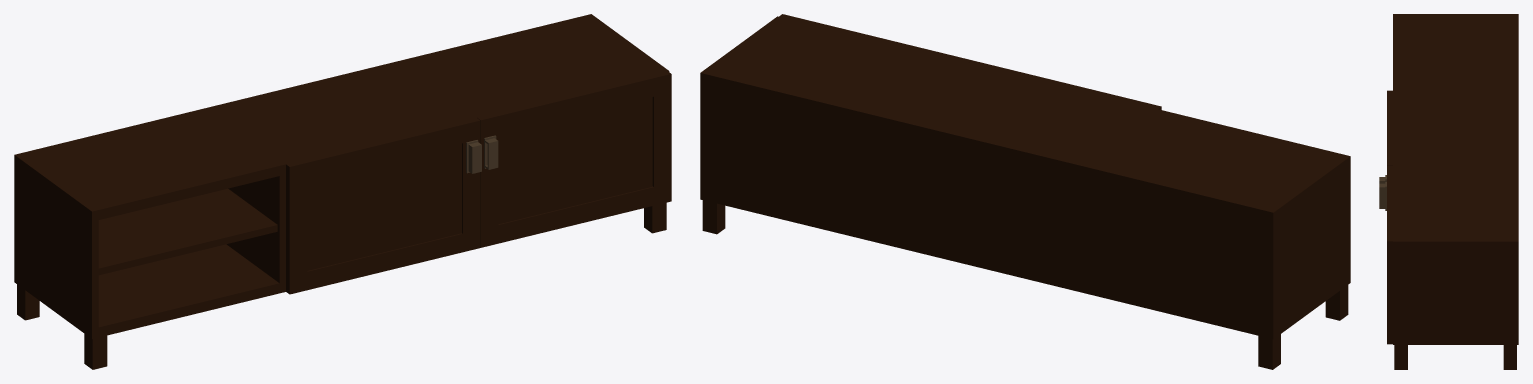
The model's file is TV cabinet.fbx.
3 renders of one model, left to right at view 1: azimuth 30°, elevation 25°; view 2: azimuth 150°, elevation 25°; view 3: azimuth 270°, elevation 25°, orthographic. The views are drawn at different scales.
Visible parts, largest first — view 1: Box002, Box012, Box017, Box001, Box003, Box004, Box009, Box014, Box008, Box011, Box016, Box007 (+6 smaller); view 2: Box002, Box023, Box006, Box003, Box001, Box008, Box022, Box019, Box021, Box014, Box009, Box018; view 3: Box002, Box022, Box001, Box015, Box009, Box014, Box020, Box021, Box024.
Boxes of the visible parts, x1,y1,x2,y2 form: Box002: (14, 14, 669, 221); Box012: (307, 143, 461, 270); Box017: (498, 97, 652, 224); Box001: (14, 244, 285, 338); Box003: (14, 165, 98, 328); Box004: (98, 188, 277, 275); Box009: (304, 122, 462, 180); Box014: (495, 75, 653, 134); Box008: (226, 174, 285, 283); Box011: (307, 233, 462, 290); Box016: (498, 186, 653, 243); Box007: (286, 160, 307, 294); Box002: (700, 16, 1350, 222); Box023: (706, 84, 1080, 282); Box006: (1087, 177, 1266, 327); Box003: (1267, 166, 1350, 329); Box001: (700, 189, 1350, 339); Box008: (1080, 176, 1087, 283); Box022: (700, 83, 706, 190); Box019: (1258, 334, 1280, 369); Box021: (702, 200, 725, 234); Box014: (796, 18, 953, 58); Box009: (986, 64, 1143, 104); Box018: (1325, 285, 1348, 320); Box002: (1393, 14, 1518, 249); Box022: (1393, 250, 1518, 336); Box001: (1393, 336, 1518, 344); Box015: (1387, 234, 1392, 344); Box009: (1387, 97, 1392, 158); Box014: (1387, 173, 1392, 234); Box020: (1394, 345, 1407, 369); Box021: (1503, 345, 1516, 369); Box024: (1379, 182, 1386, 210).
Bounding box in the file's own units: 70.87 × 18.7 × 18.31.
